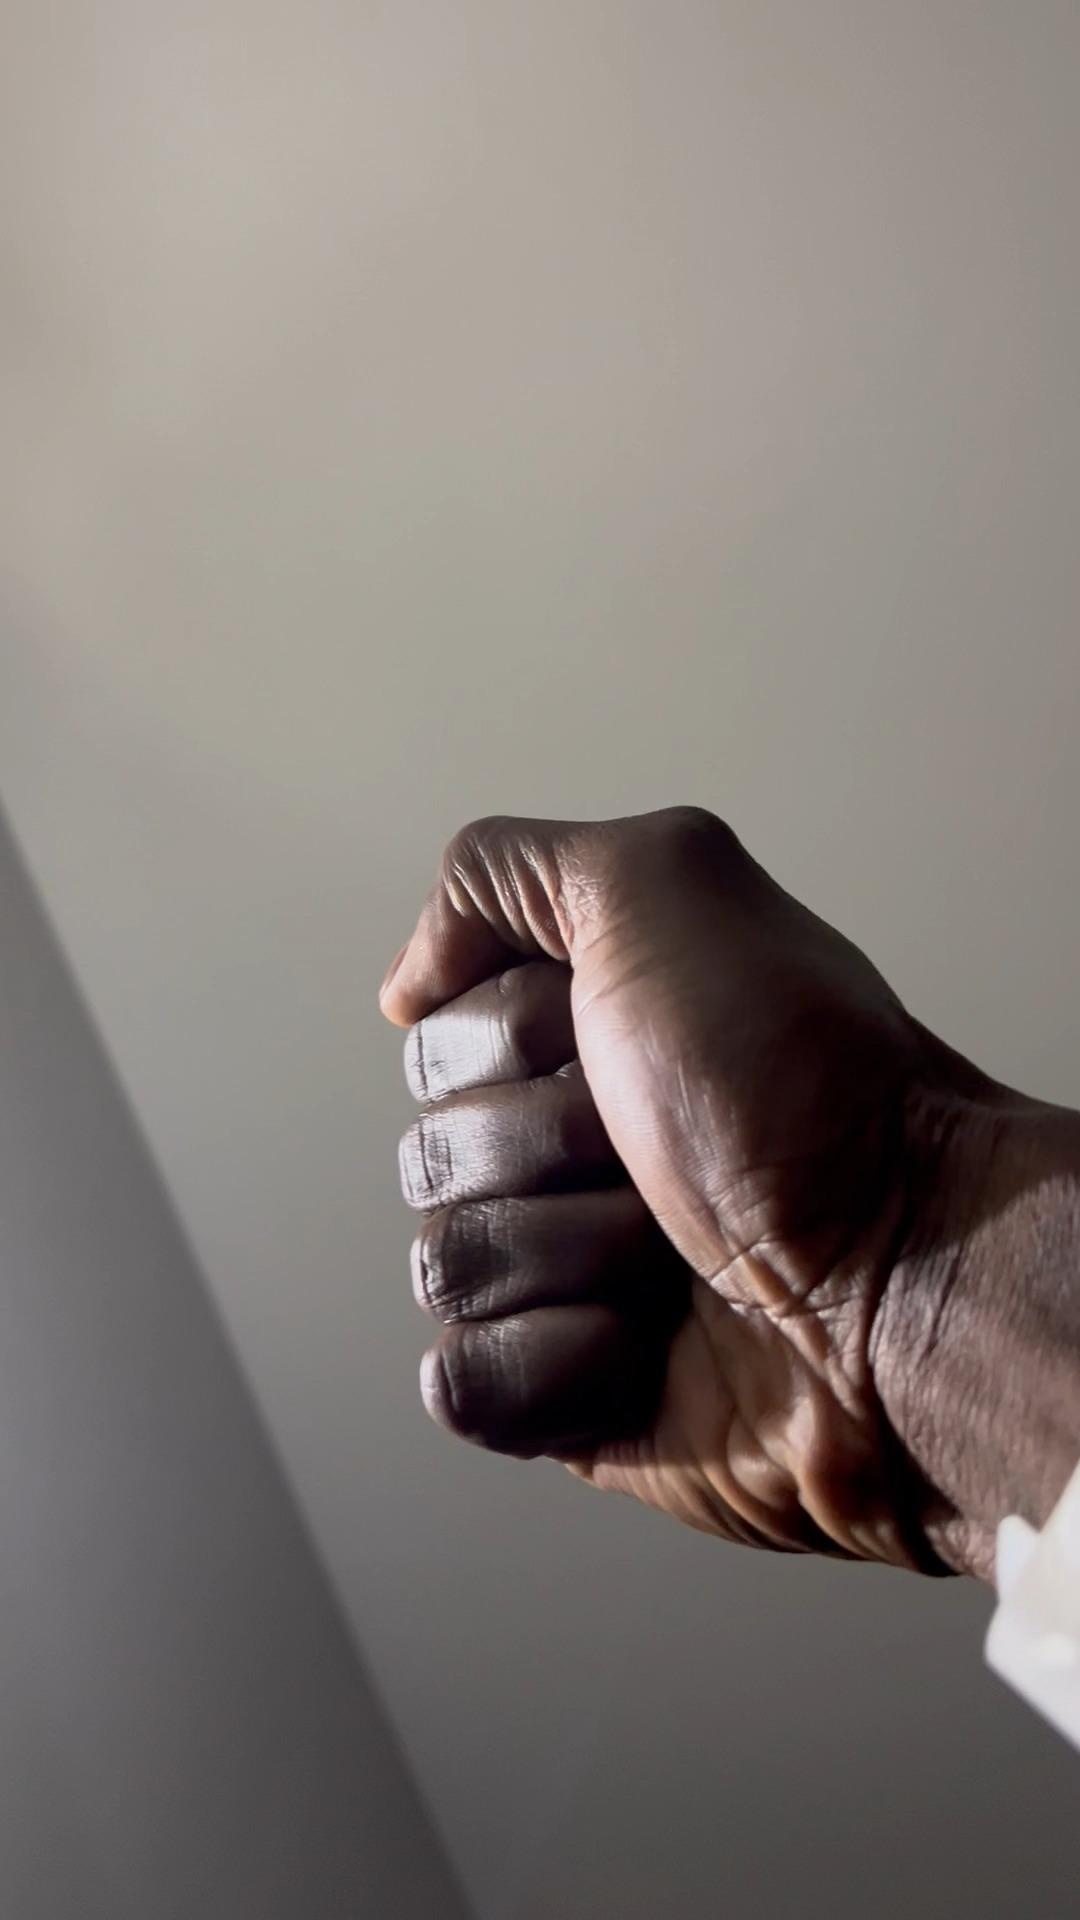Rock: (380, 803, 986, 1594)
